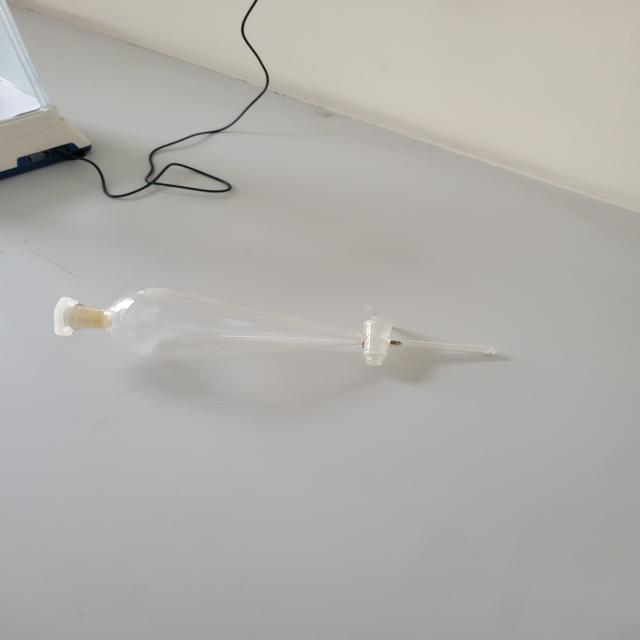Separating_Funnel: (49, 250, 519, 414)
